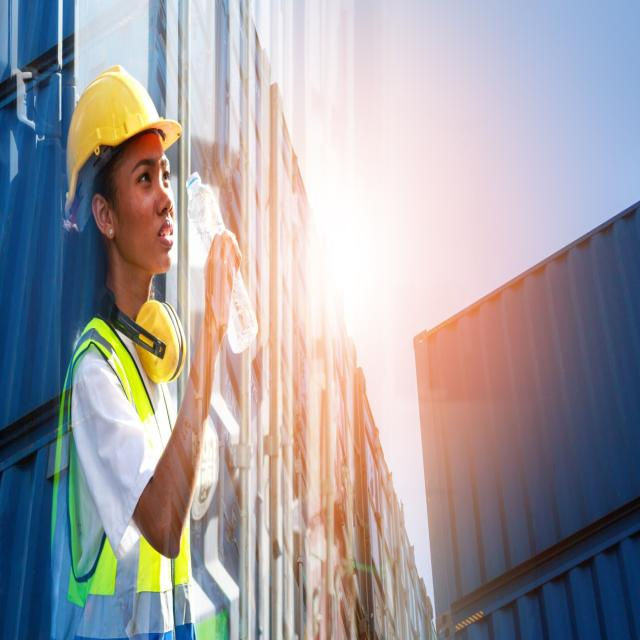helmet: (48, 61, 193, 190)
no-goggles: (94, 146, 188, 204)
vest: (54, 300, 214, 639)
